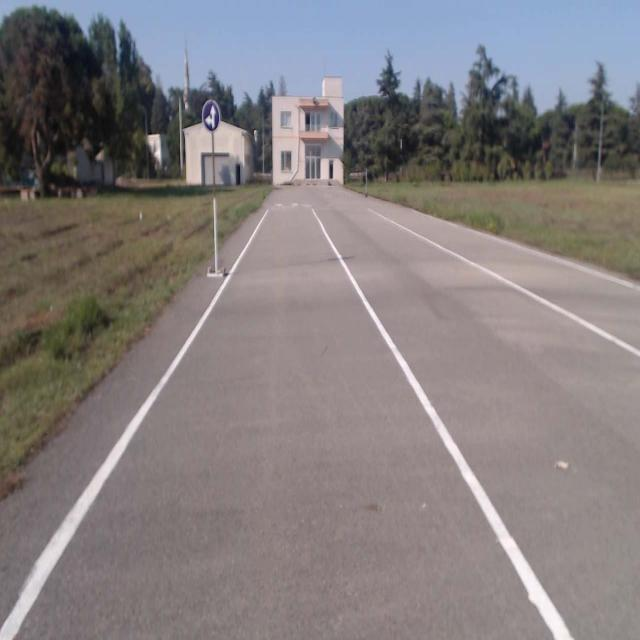ilerisol: (202, 100, 220, 132)
